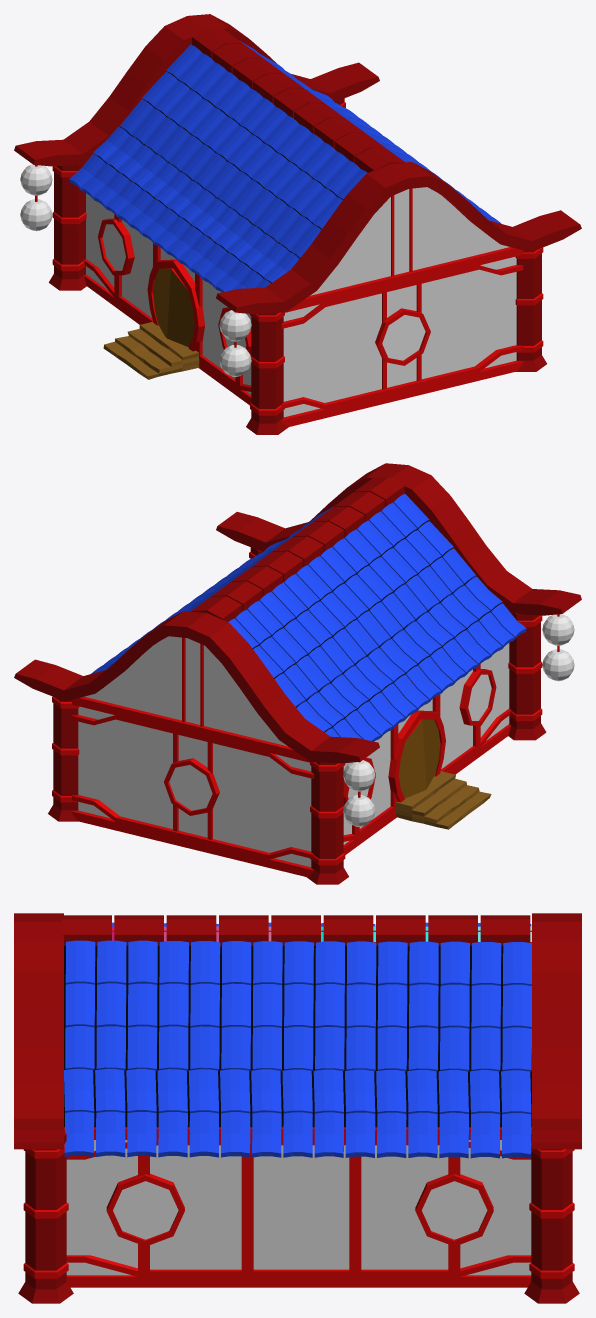
The model's file is House01.fbx.
3 views of the same model, one above another, from view 1: azimuth 30°, elevation 25°; view 2: azimuth 150°, elevation 25°; view 3: azimuth 270°, elevation 25° (orthographic). The views are drawn at different scales.
Parts seen in each view (by area): view 1: House, Telhado; view 2: House, Telhado; view 3: Telhado, House.
Part boxes in pixels (<box>): House: <box>20,72,546,434</box>; Telhado: <box>14,14,581,314</box>; House: <box>48,521,574,884</box>; Telhado: <box>14,463,581,763</box>; Telhado: <box>14,913,581,1158</box>; House: <box>18,926,579,1303</box>.
Size of the model in its own units: 5.93 by 3.72 by 6.52.
